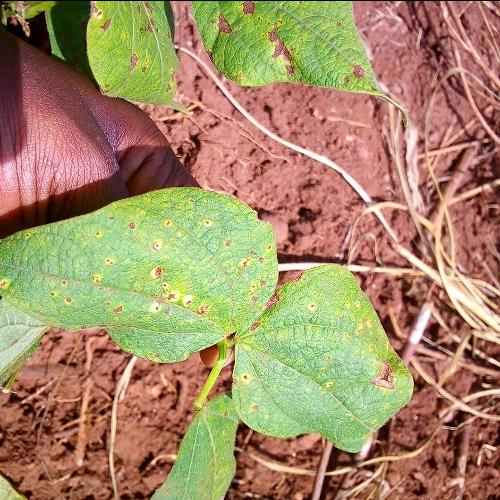hawar: (56, 206, 272, 330), (200, 4, 302, 76), (94, 0, 168, 83), (347, 350, 404, 401)
